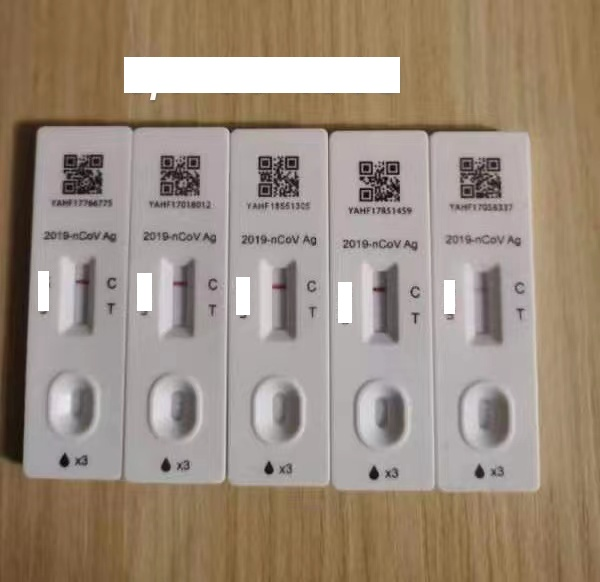negative: (261, 262, 297, 342), (162, 259, 196, 341), (61, 257, 94, 338), (471, 263, 502, 348), (367, 266, 399, 346)
